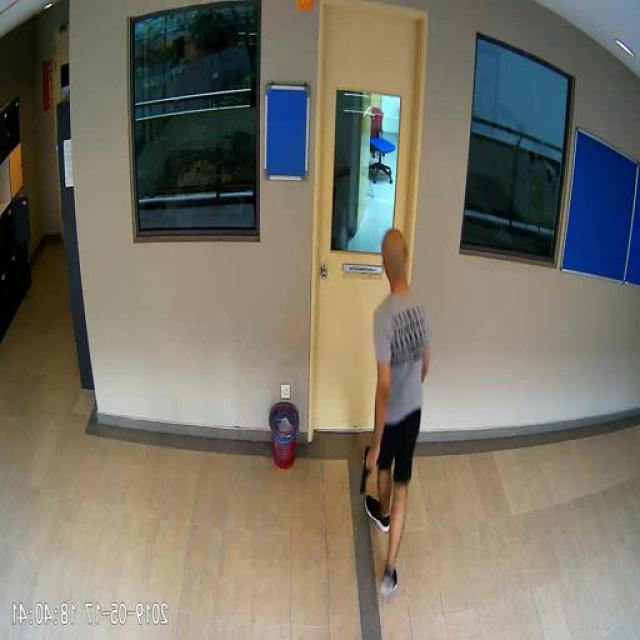Gun: (362, 443, 378, 492)
